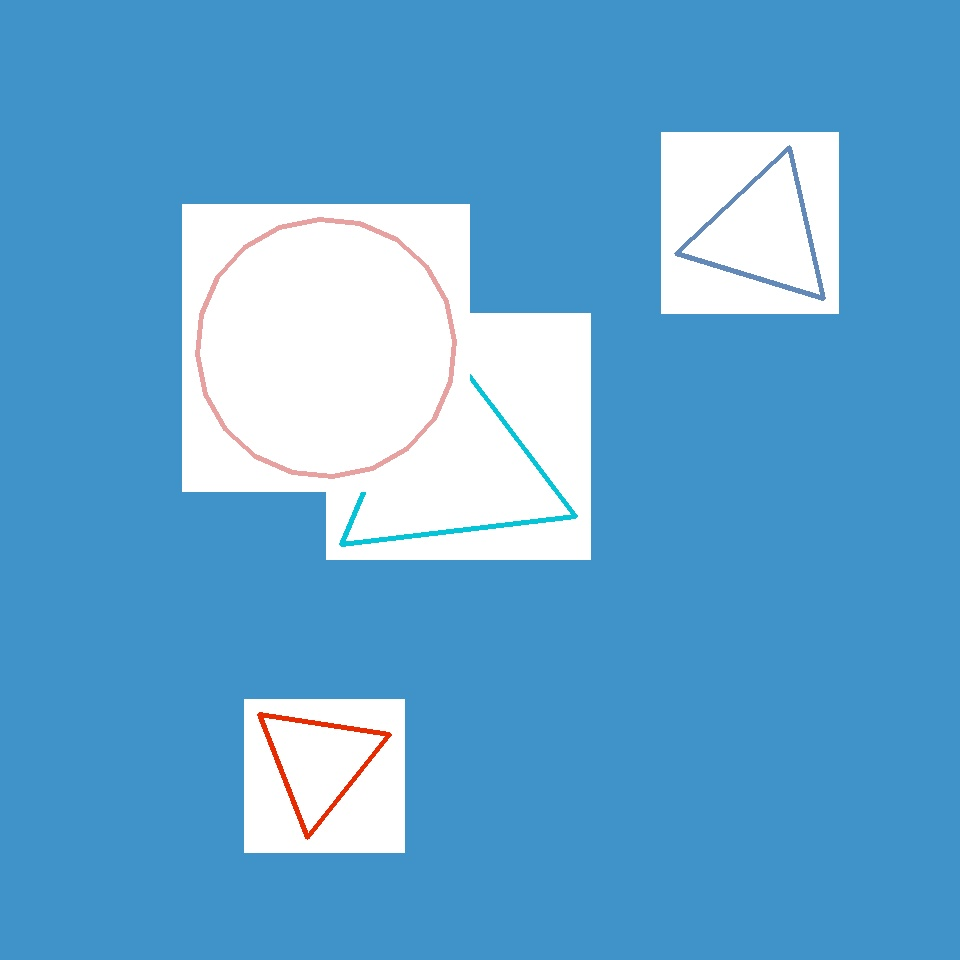circle: (195, 194, 506, 469), (333, 355, 567, 571), (690, 158, 836, 308), (254, 700, 384, 824)
triangle: (544, 140, 874, 471), (138, 650, 403, 914), (198, 220, 454, 476), (359, 788, 530, 959)
